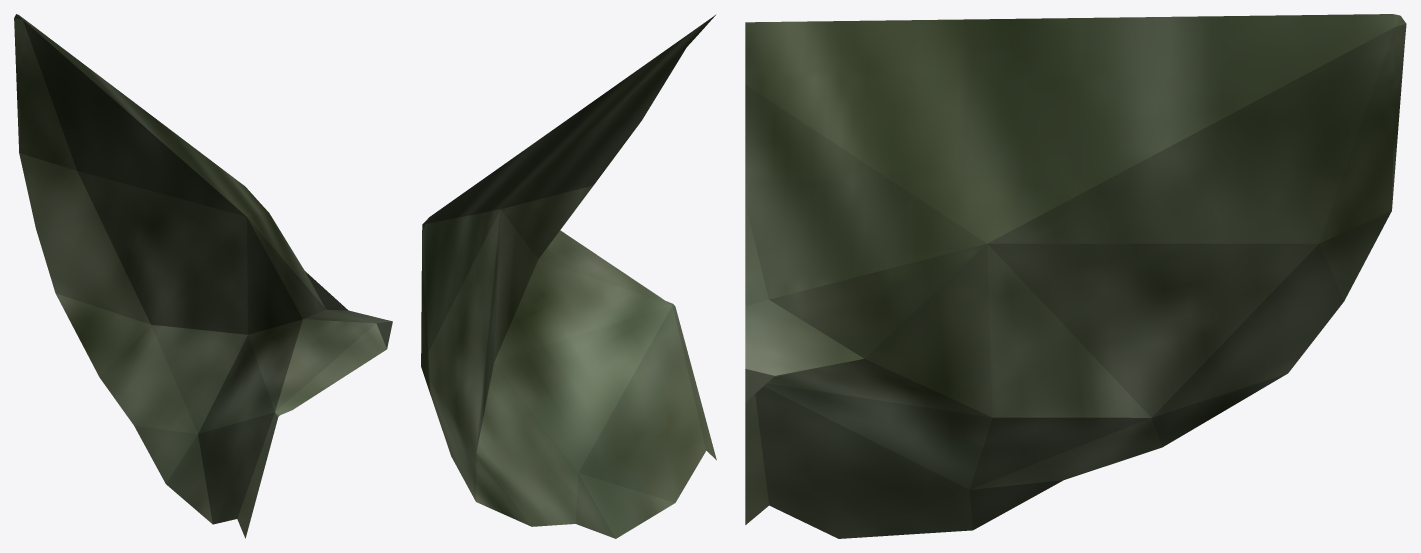
The picture shows the model from 3 angles, left to right: view 1: azimuth 30°, elevation 25°; view 2: azimuth 150°, elevation 25°; view 3: azimuth 270°, elevation 25°; orthographic projection. The views are drawn at different scales.
Size of the model in its own units: 0.2271 by 0.5414 by 0.6179.
1 material, 1 textured.
